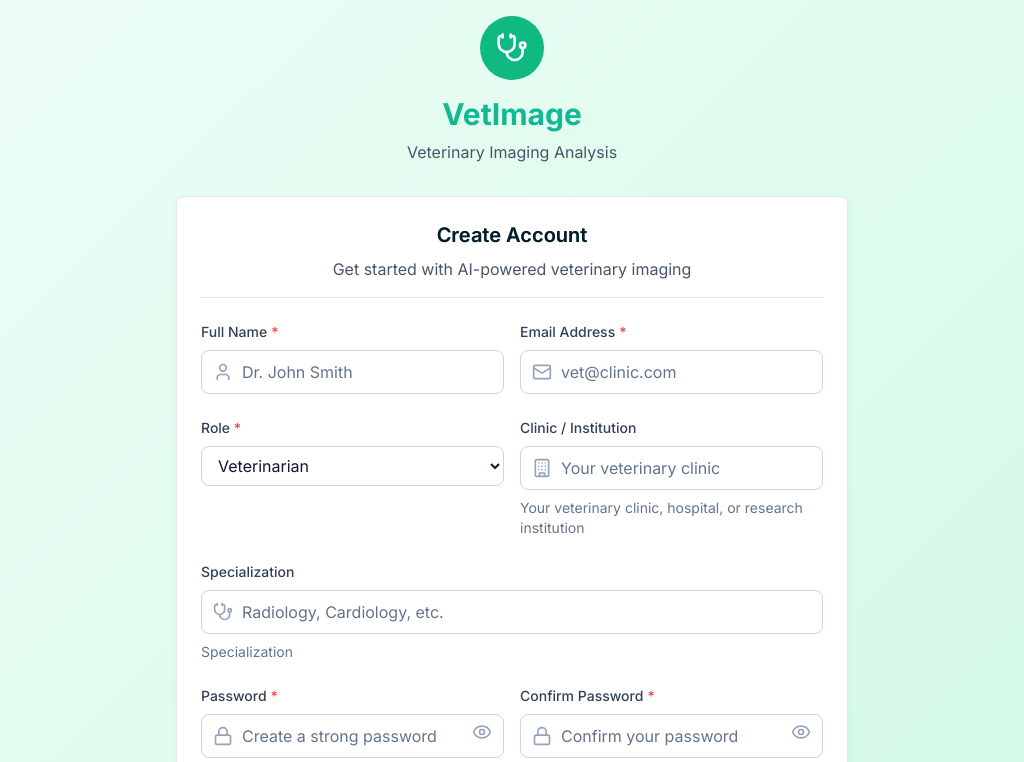
Test case: RegisterPage › shows an error and does not submit on password mismatch
The image size is (1024, 762).
Type "Jane Vet" into the field labelled "Full Name*" at [352, 372], box [201,350,504,394]
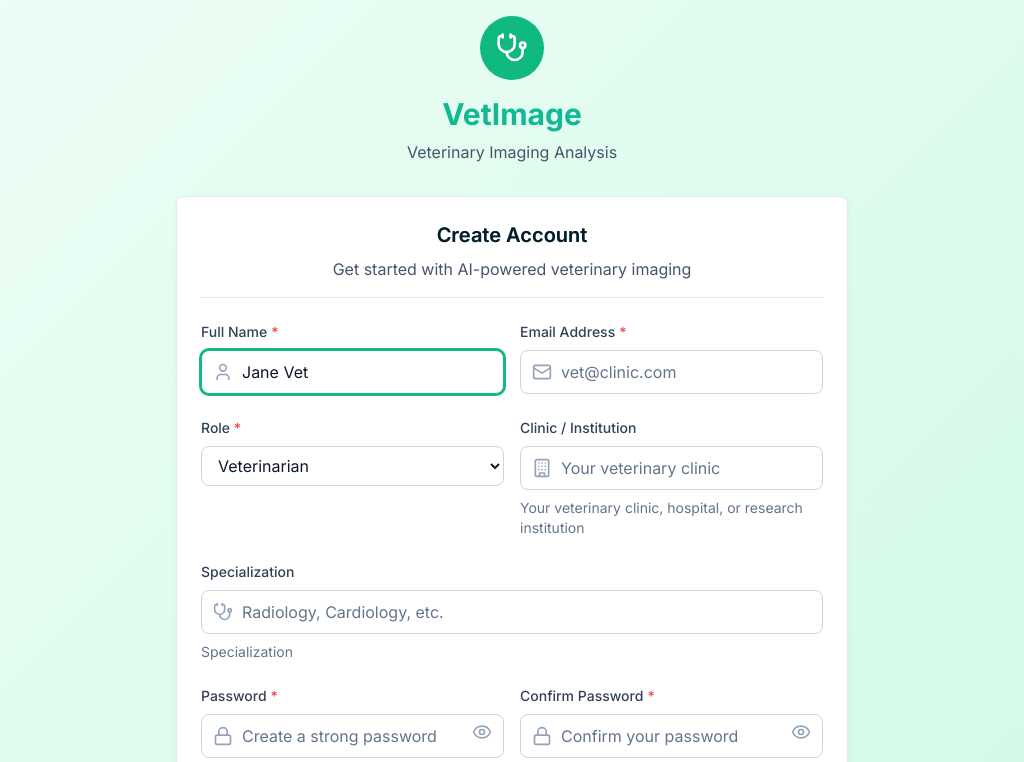
Type "newuser@example.com" into the field labelled "Email Address*" at [672, 372], box [520,350,823,394]
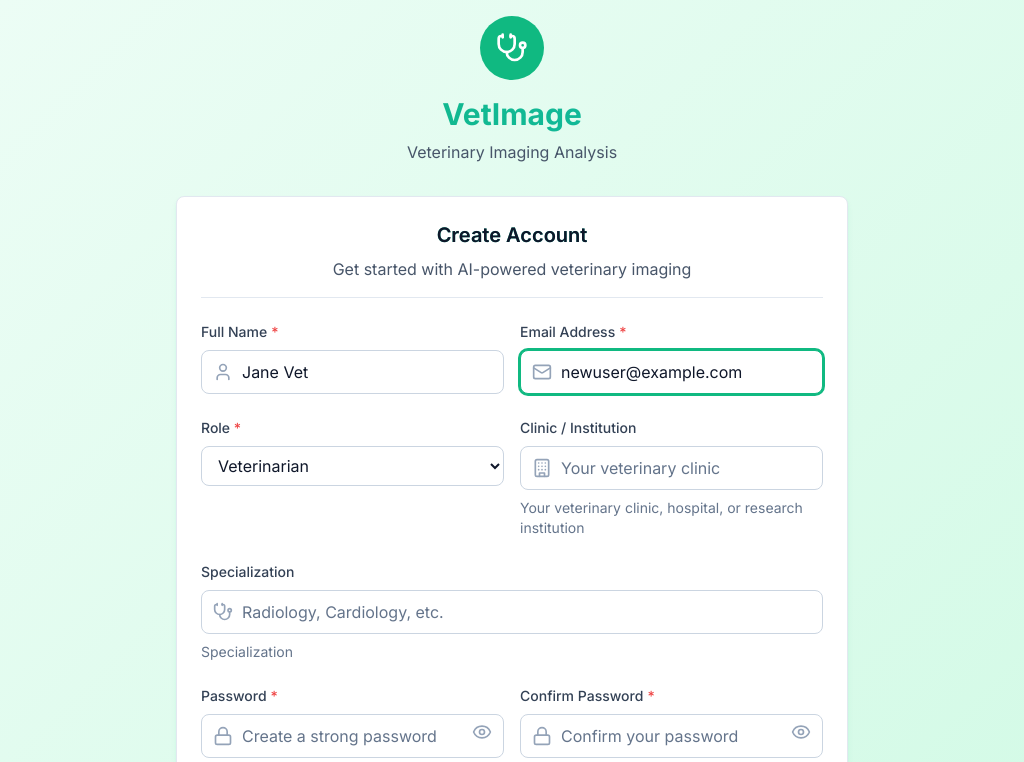
Type "StrongPass123!" into the password field labelled "Password*" at [352, 736], box [201,714,504,758]
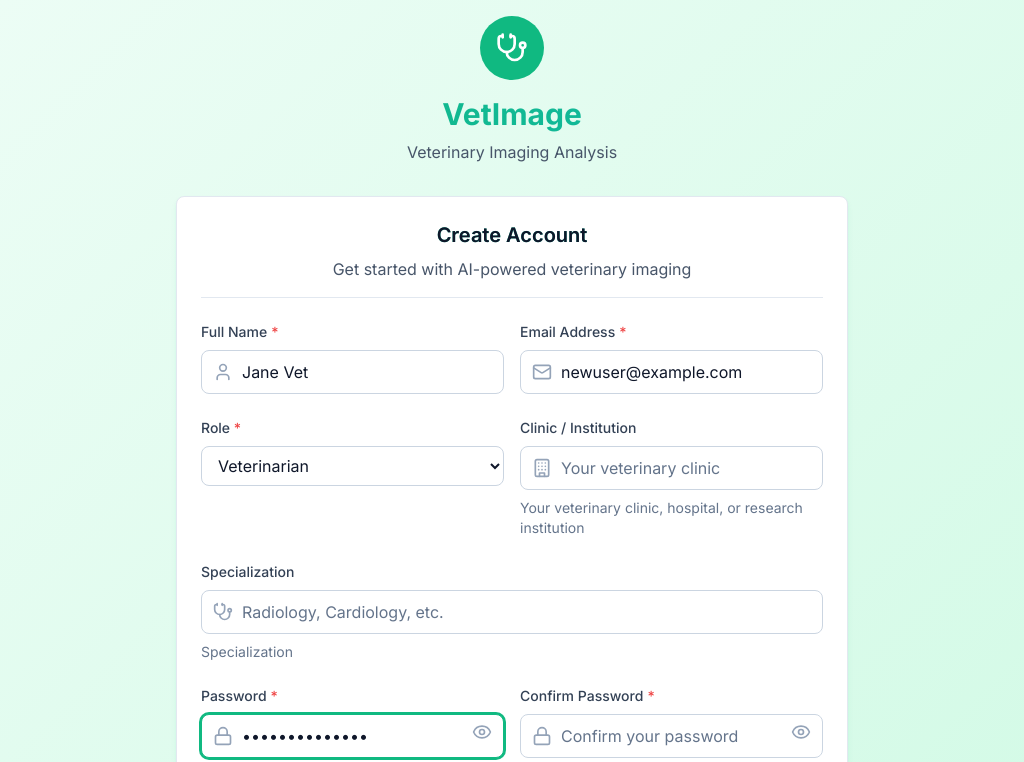
Type "DifferentPass456!" into the password field labelled "Confirm Password*" at [672, 736], box [520,714,823,758]
(page scrolled)
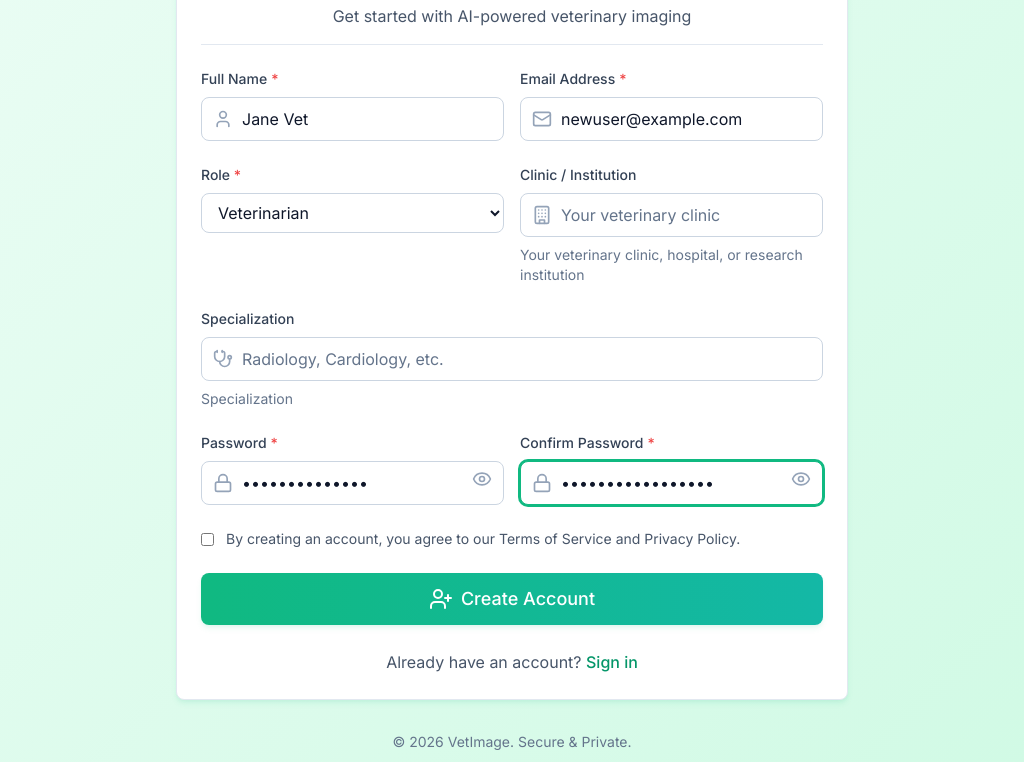
Click the checkbox at [208, 540], box [201,533,214,546]
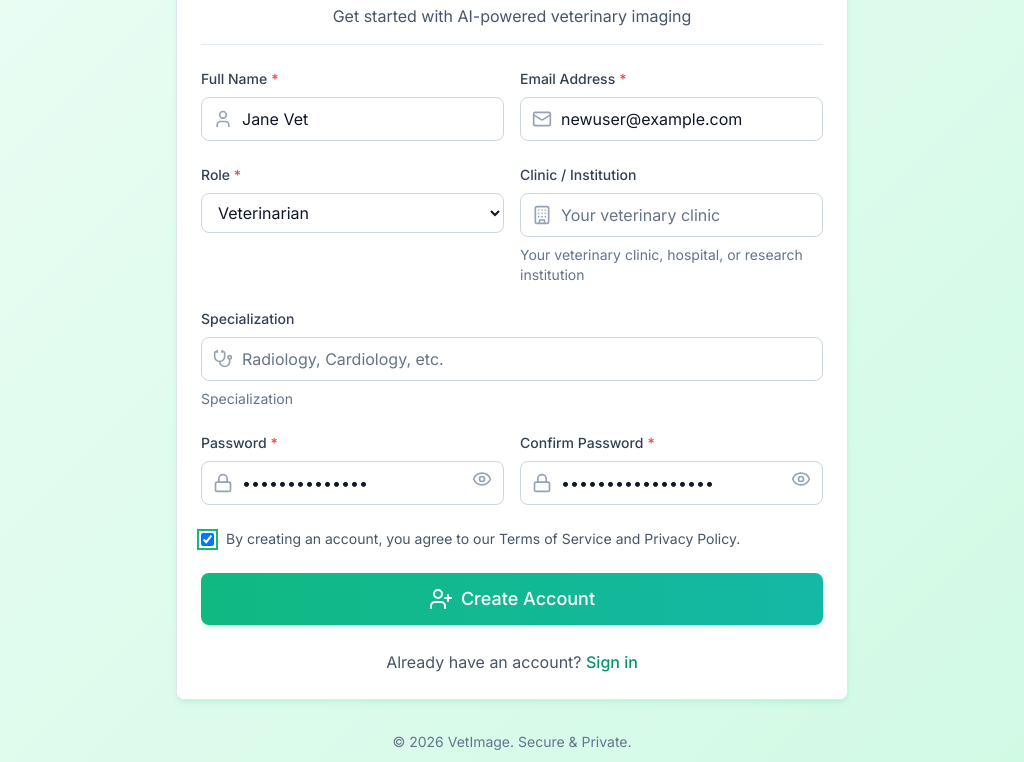
Click the button "Create Account" at [512, 599], box [201,573,823,625]
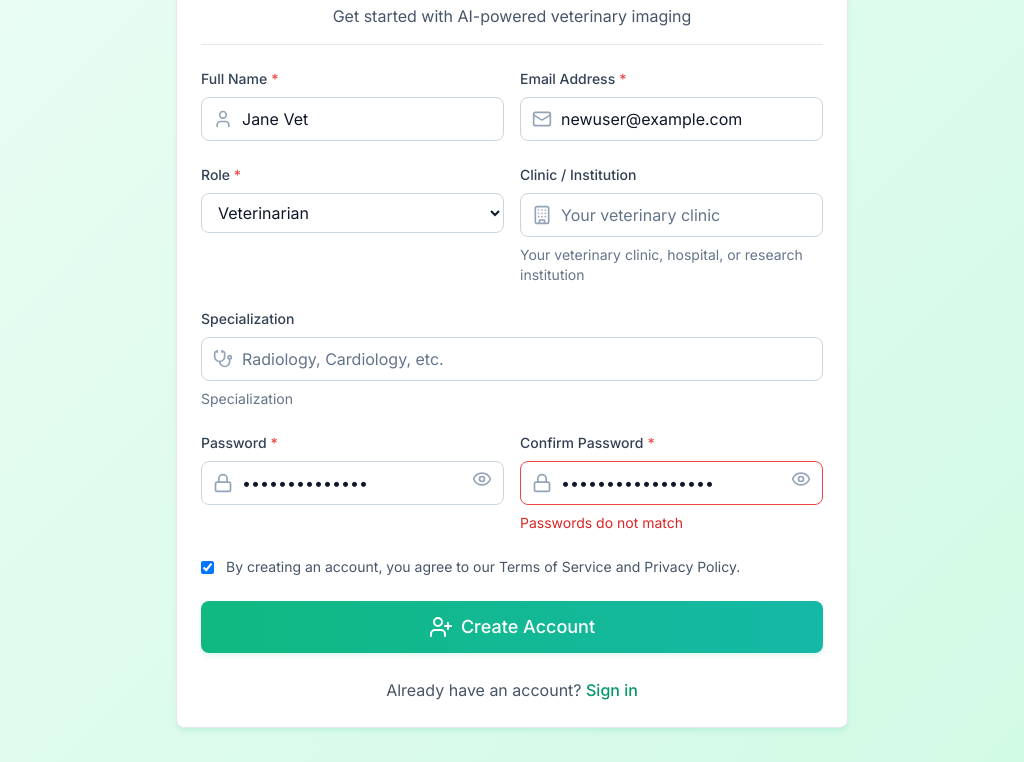
Expected: the text "Passwords do not match" is shown, [520,514,683,531]
